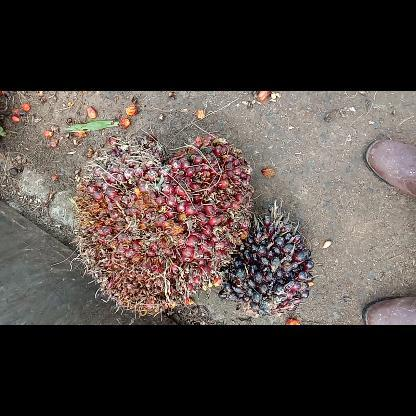TBS abnormal: (219, 199, 315, 317)
TBS masak: (68, 132, 252, 316)
